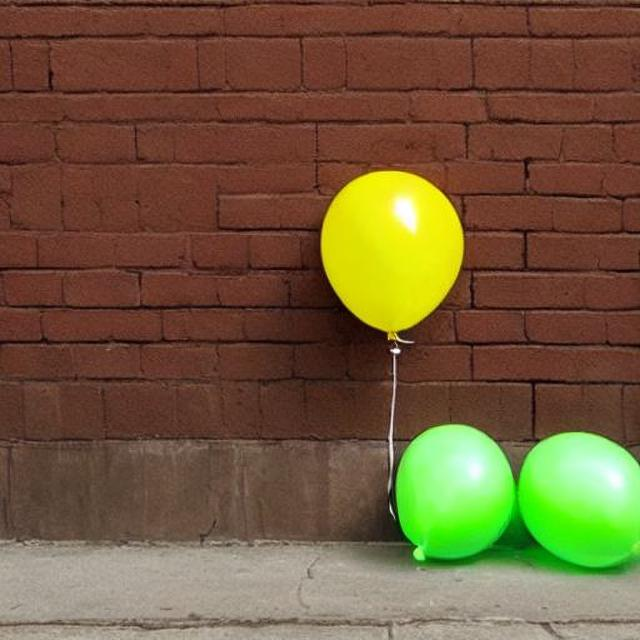balloon: (315, 161, 464, 342), (393, 422, 517, 578), (522, 432, 640, 570)
